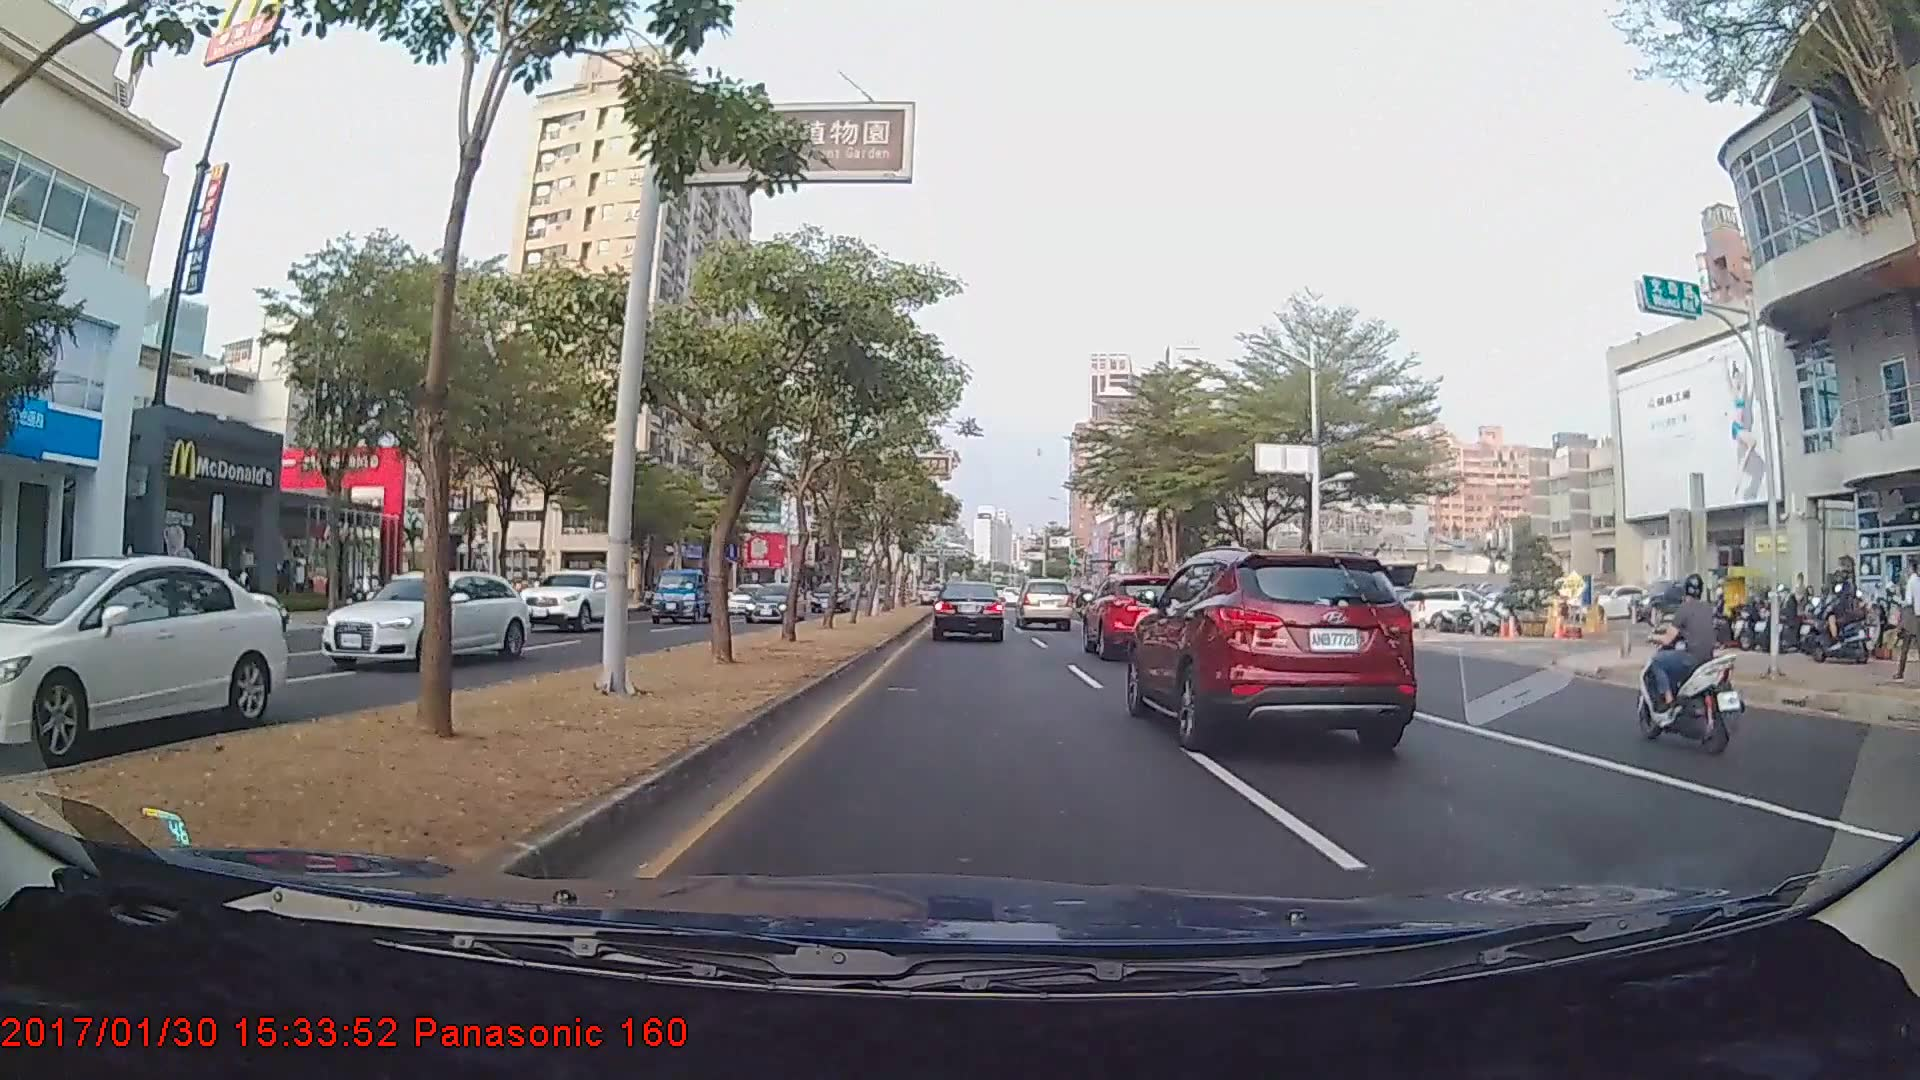pedestrian: (1893, 557, 1920, 683)
rider: (1622, 569, 1743, 755)
vehicle: (0, 555, 284, 762), (1134, 549, 1413, 742), (317, 571, 530, 669), (1082, 574, 1208, 660), (516, 567, 629, 630), (932, 580, 1005, 642), (651, 564, 718, 623), (1015, 578, 1074, 631), (744, 583, 803, 621), (808, 578, 850, 611)
